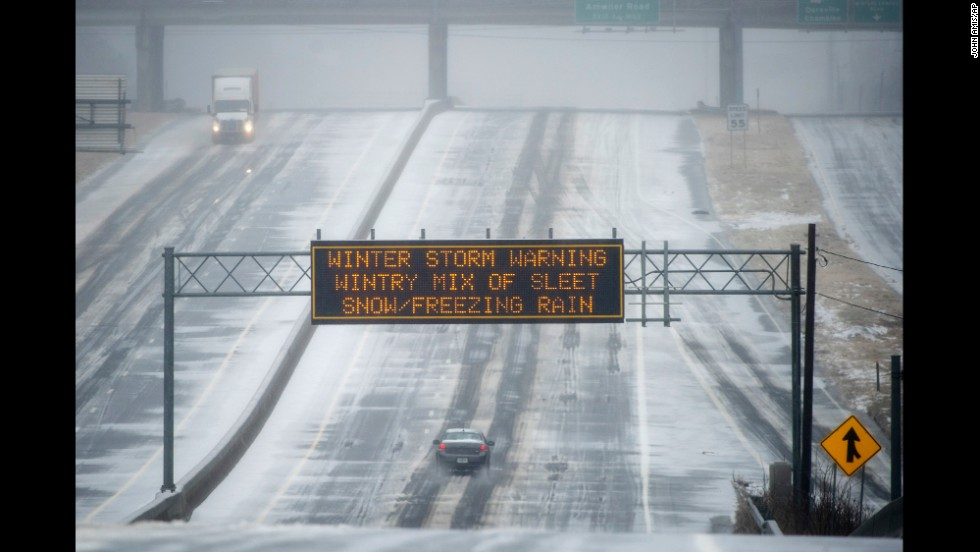car: (432, 426, 496, 476)
truck: (206, 69, 262, 146)
